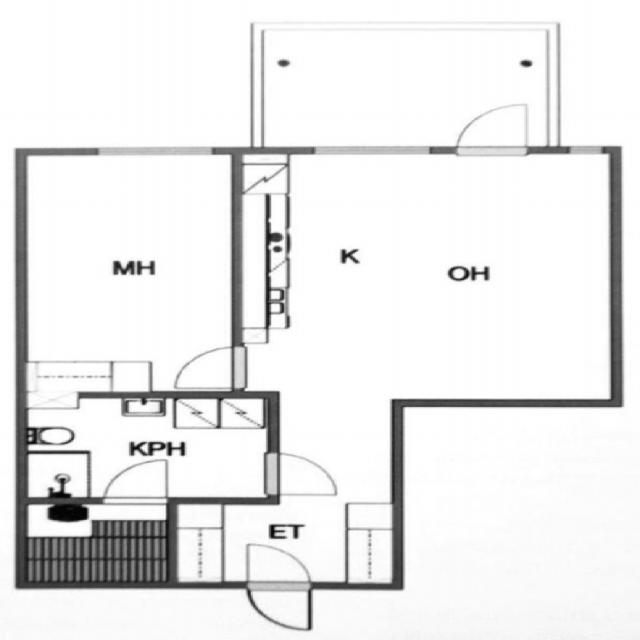door: (457, 102, 525, 154), (169, 347, 243, 388), (267, 452, 341, 493), (247, 540, 309, 588), (247, 582, 309, 630), (104, 456, 165, 503)
